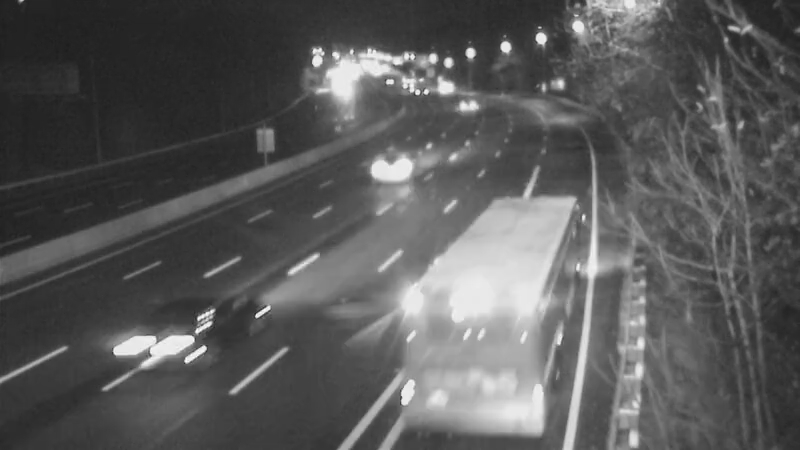vehicle: (104, 294, 214, 404), (445, 277, 555, 387), (359, 122, 439, 202), (440, 82, 490, 132)
